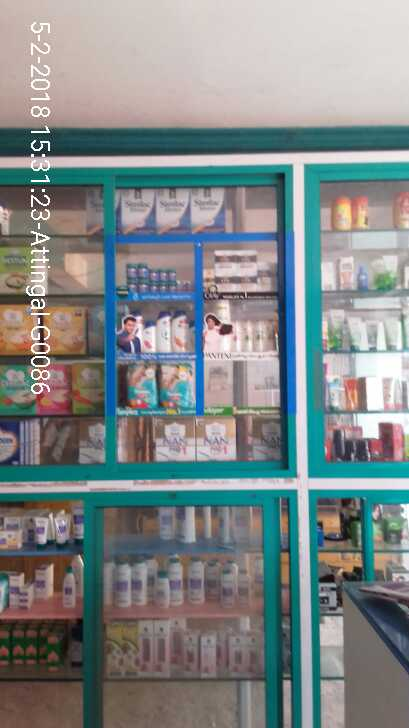vicks: (126, 257, 195, 297)
